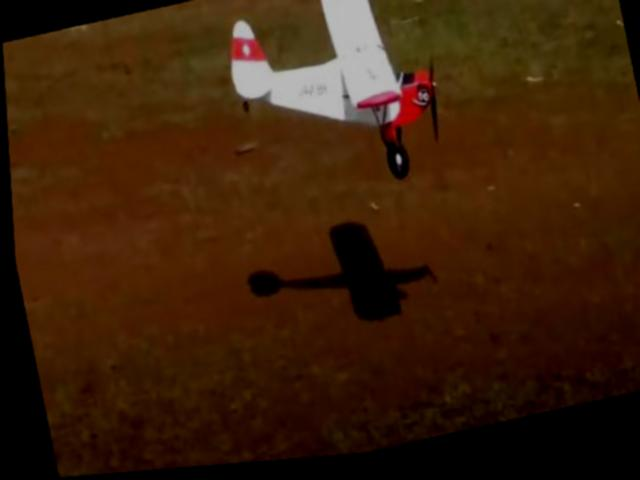uav: (209, 0, 457, 224)
